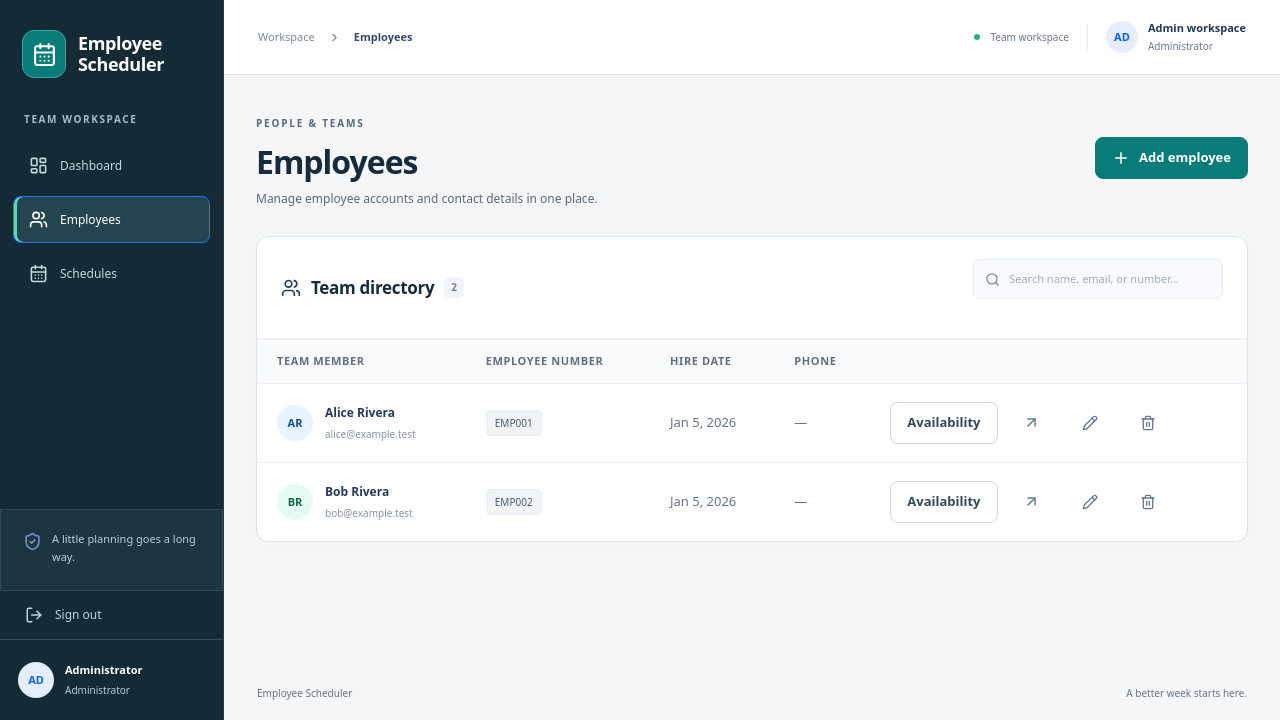
Test: admin availability empty state is explicit
Step 1. Click the button "Availability" in the row of "EMP001" → x=944, y=423, box [890,402,998,444]
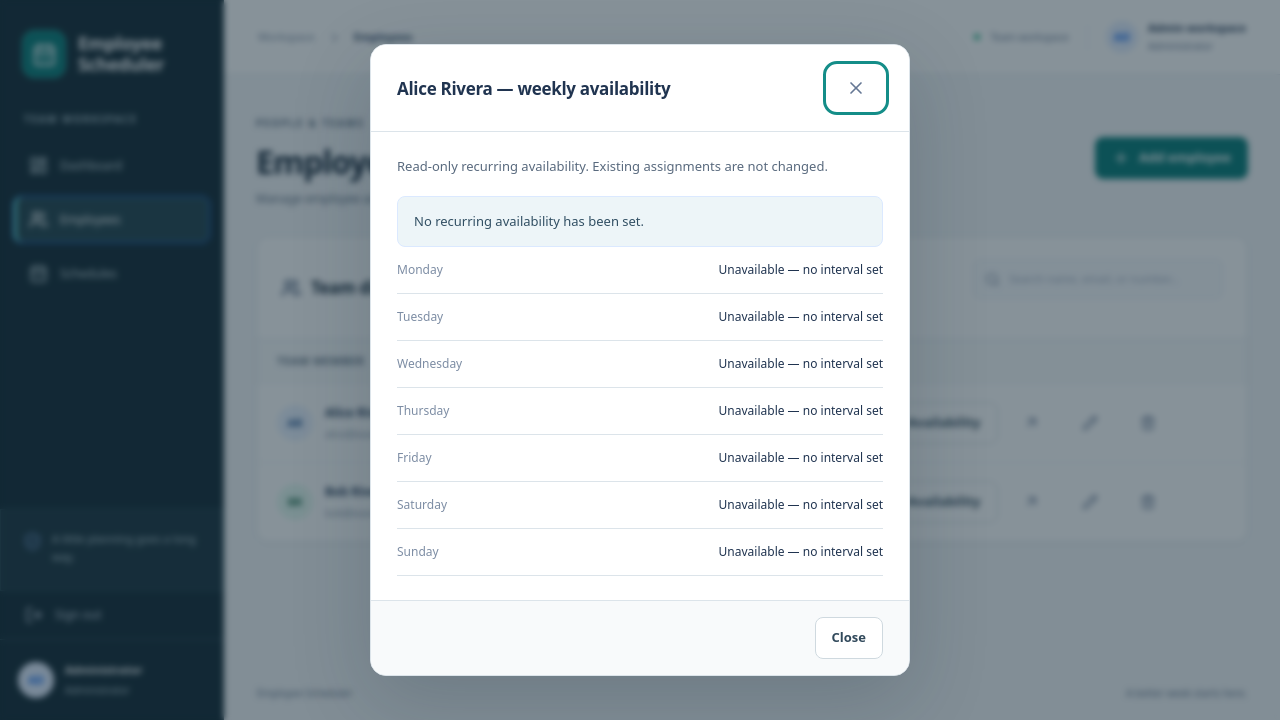
Expected: the text "No recurring availability has been set." is shown, [397,196,883,247]
Expected: the text "Unavailable — no interval set" is shown 7 times
